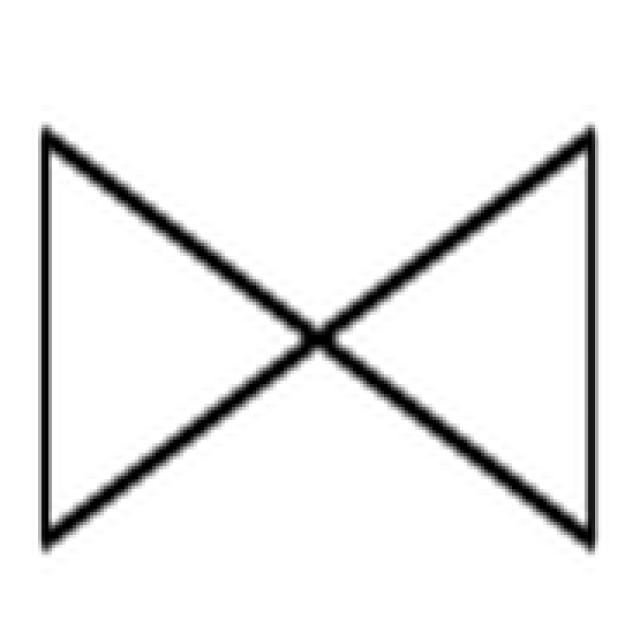Gate valve: (42, 128, 592, 545)
